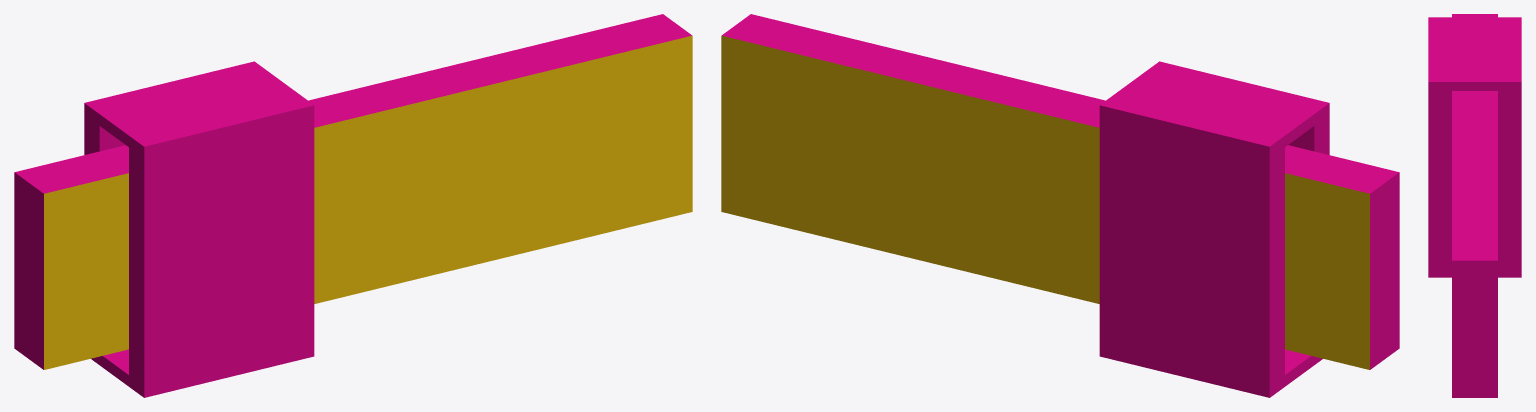
Rendered from obst1.fbx.
3 renders of one model, left to right at view 1: azimuth 30°, elevation 25°; view 2: azimuth 150°, elevation 25°; view 3: azimuth 270°, elevation 25°, orthographic. The views are drawn at different scales.
Visible parts, largest first — view 1: Cube, Cube.001, Cube_cell.002, Cube_cell; view 2: Cube, Cube.001, Cube_cell, Cube_cell.001, Cube_cell.002; view 3: Cube.001, Cube, Cube_cell.
Boxes of the visible parts, box(x1,y1,x2,y2) form: Cube: box(14, 14, 692, 369); Cube.001: box(84, 61, 314, 397); Cube_cell.002: box(14, 100, 370, 289); Cube_cell: box(347, 14, 692, 280); Cube: box(721, 14, 1399, 369); Cube.001: box(1099, 61, 1329, 397); Cube_cell: box(721, 14, 1047, 282); Cube_cell.001: box(1024, 195, 1399, 369); Cube_cell.002: box(1048, 92, 1399, 272); Cube.001: box(1428, 17, 1521, 277); Cube: box(1452, 14, 1497, 397); Cube_cell: box(1452, 137, 1497, 397).
Bounding box in the file's own units: 762 × 282 × 122.
